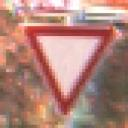preferencia: (16, 20, 121, 121)
